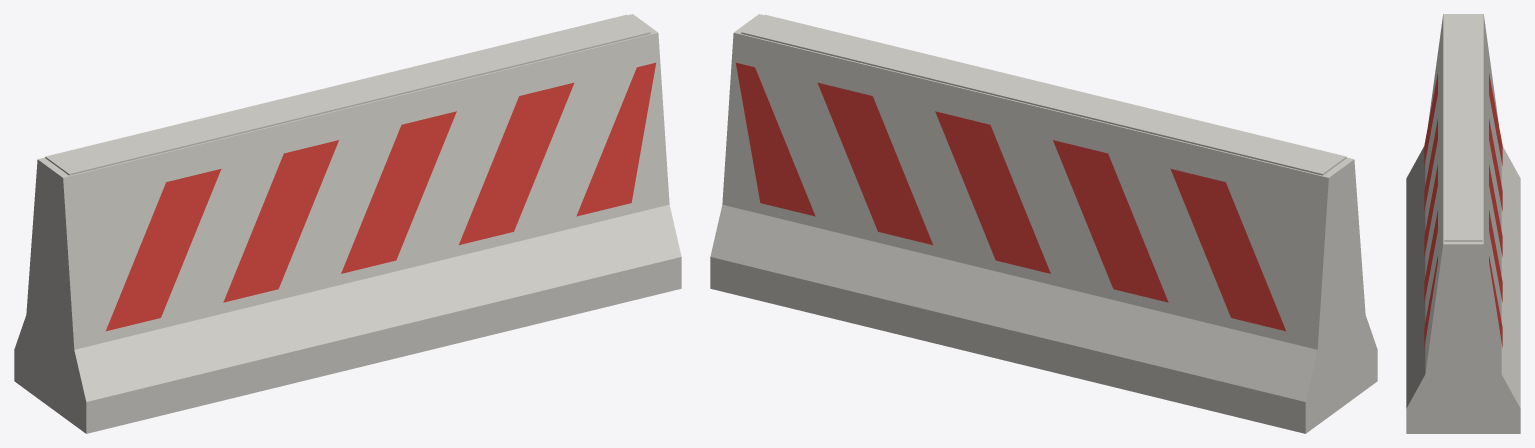
The model's file is site-barrier.glb.
The picture shows the model from 3 angles, left to right: view 1: azimuth 30°, elevation 25°; view 2: azimuth 150°, elevation 25°; view 3: azimuth 270°, elevation 25°; orthographic projection. The views are drawn at different scales.
Visible parts, largest first — view 1: site-barrier; view 2: site-barrier; view 3: site-barrier.
Boxes of the visible parts, bbox=[...] form: site-barrier: bbox=[14, 14, 681, 433]; site-barrier: bbox=[710, 14, 1377, 433]; site-barrier: bbox=[1406, 14, 1520, 433].
Size of the model in its own units: 4.3 by 1.66 by 0.9.
